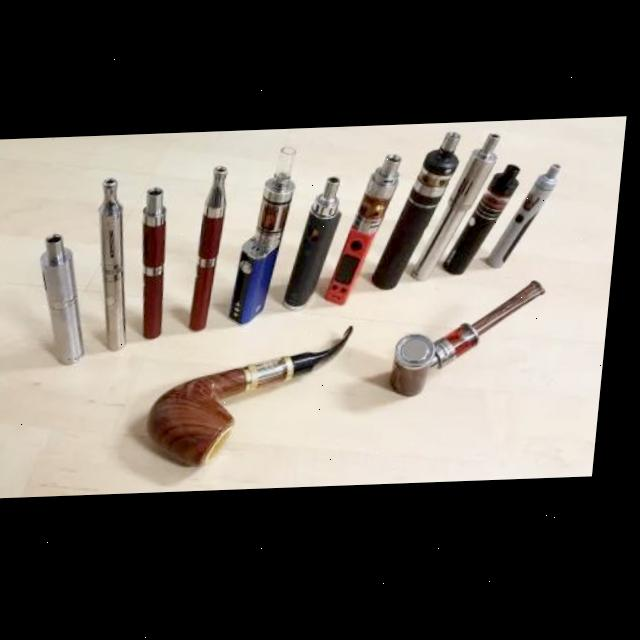vape: (376, 134, 466, 294), (416, 137, 504, 286), (233, 147, 304, 330), (329, 156, 406, 310), (89, 176, 148, 354), (35, 232, 103, 368), (446, 167, 526, 280), (287, 178, 350, 314), (491, 167, 567, 274), (137, 187, 180, 342), (195, 167, 234, 334)
